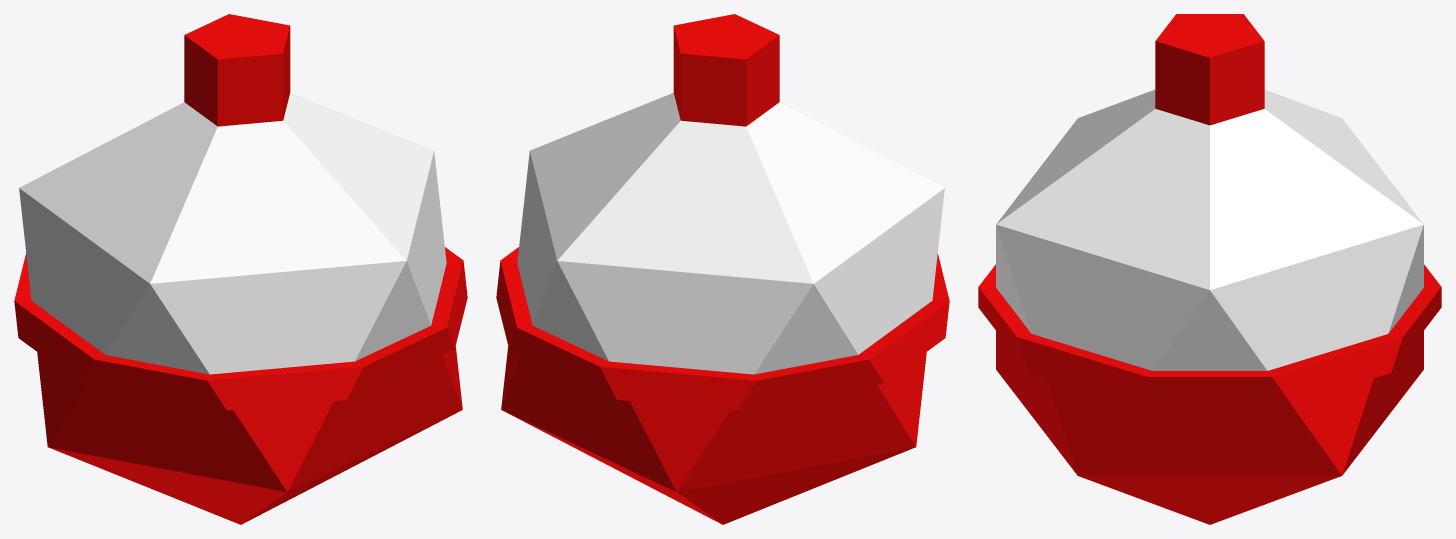
The model's file is bobber_tetxured.fbx.
3 renders of one model, left to right at view 1: azimuth 30°, elevation 25°; view 2: azimuth 150°, elevation 25°; view 3: azimuth 270°, elevation 25°, orthographic.
Visible parts, largest first — view 1: Body; view 2: Body; view 3: Body.
Boxes of the visible parts, box(x1,y1,x2,y2) form: Body: box(14, 14, 467, 524); Body: box(496, 14, 949, 524); Body: box(978, 14, 1441, 524).
Size of the model in its own units: 19.24 by 23.19 by 19.8.
